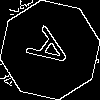A: (25, 25, 82, 79)
